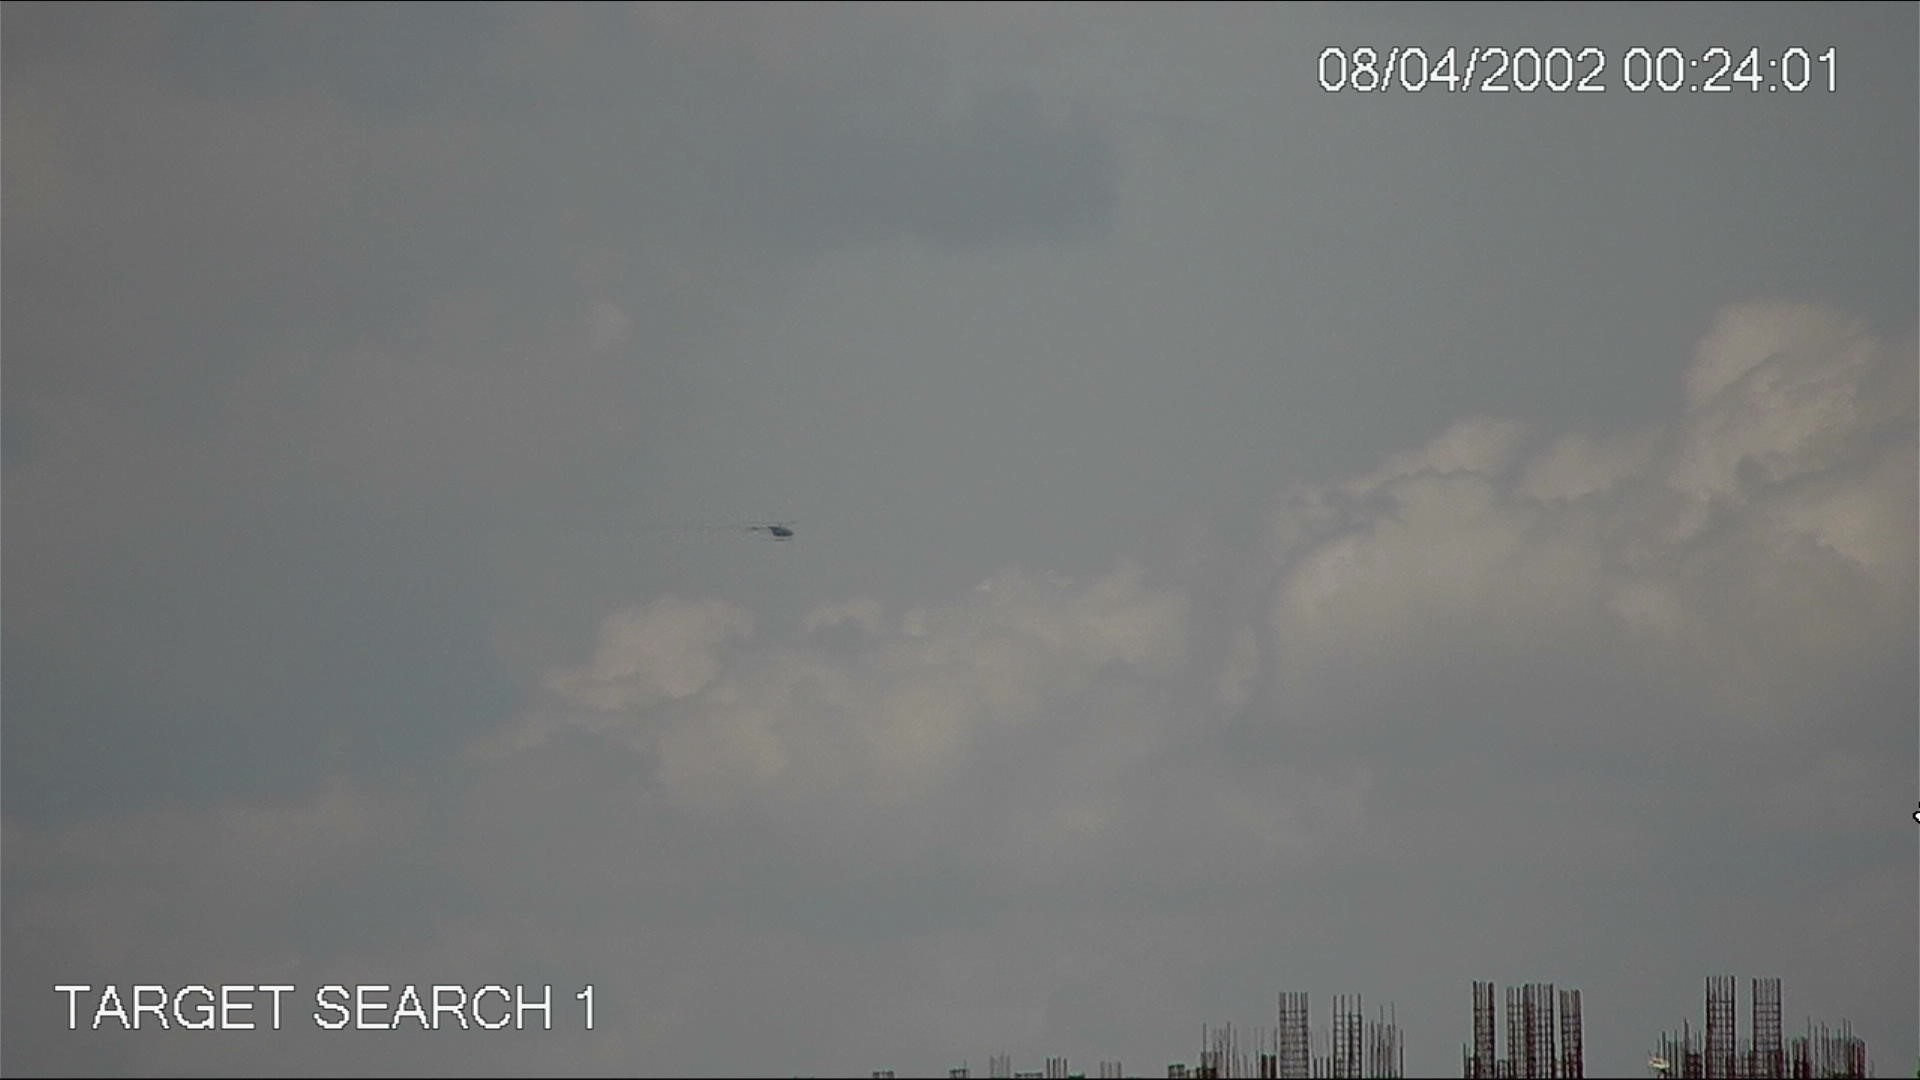SU_30: (742, 518, 800, 545)
